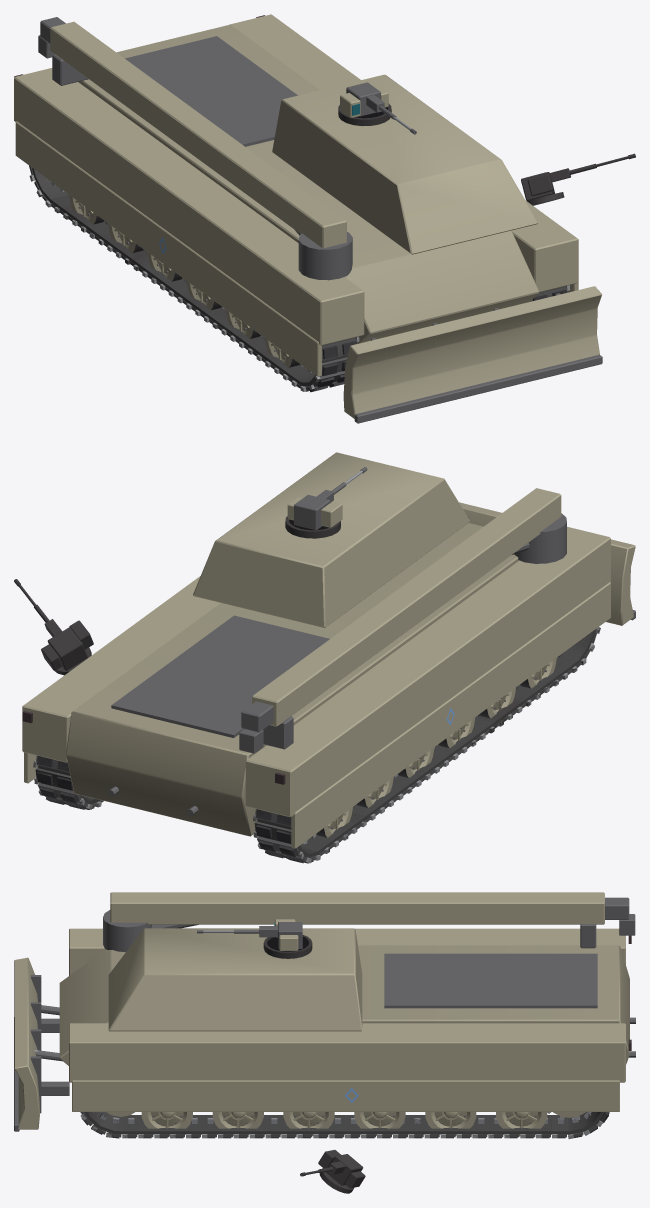
The model's file is recoveryVehicle__challenger_arrv.glb.
3 renders of one model, top to bottom at view 1: azimuth 30°, elevation 25°; view 2: azimuth 150°, elevation 25°; view 3: azimuth 270°, elevation 25°, orthographic. The views are drawn at different scales.
Parts seen in each view (by area): view 1: Hull_Mesh, Track_L_Mesh, Wreck, Turret_Mesh; view 2: Hull_Mesh, Track_L_Mesh, Wreck, Track_R_Mesh, Turret_Mesh; view 3: Hull_Mesh, Track_R_Mesh, Wreck, Wheel_R0_Mesh, Wheel_R5_Mesh, Wheel_R4_Mesh, Wheel_R1_Mesh, Wheel_R3_Mesh, Wheel_R2_Mesh, Turret_Mesh, Gun_Mesh.
Part boxes in pixels (x1,y1,x2,y2): Hull_Mesh: (14, 14, 602, 423); Track_L_Mesh: (29, 165, 359, 392); Wreck: (29, 103, 635, 389); Turret_Mesh: (340, 82, 388, 118); Hull_Mesh: (22, 452, 635, 848); Track_L_Mesh: (253, 627, 600, 863); Wreck: (14, 516, 600, 862); Track_R_Mesh: (33, 755, 103, 809); Turret_Mesh: (287, 494, 342, 530); Hull_Mesh: (14, 892, 635, 1131); Track_R_Mesh: (80, 1112, 609, 1138); Wreck: (80, 935, 609, 1193); Wheel_R0_Mesh: (496, 1112, 547, 1136); Wheel_R5_Mesh: (141, 1112, 192, 1136); Wheel_R4_Mesh: (212, 1112, 263, 1135); Wheel_R1_Mesh: (425, 1112, 476, 1135); Wheel_R3_Mesh: (283, 1112, 334, 1135); Wheel_R2_Mesh: (354, 1112, 405, 1135); Turret_Mesh: (274, 919, 302, 950); Gun_Mesh: (197, 926, 277, 937).
Size of what is drawn, in the model's own units: 6.45 by 2.66 by 8.6.
